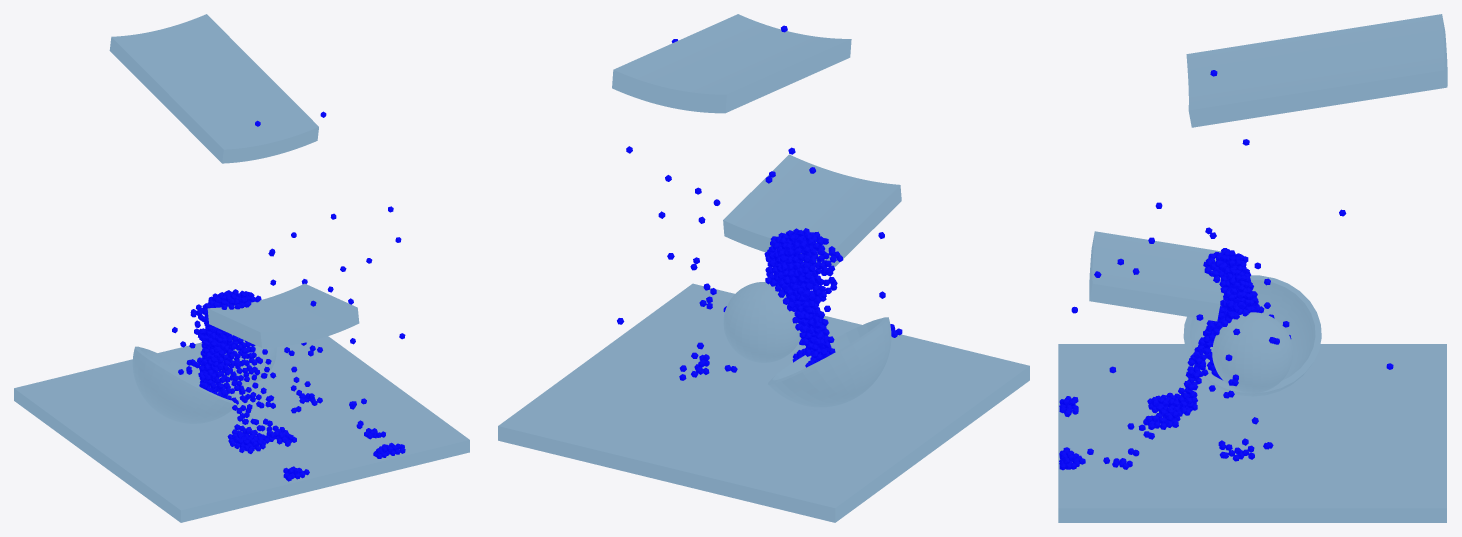
3 renders of one model, left to right at view 1: azimuth 30°, elevation 25°; view 2: azimuth 150°, elevation 25°; view 3: azimuth 270°, elevation 25°, orthographic. The views are drawn at different scales.
Bounding box in the file's own units: 12 × 13.58 × 12.02.
